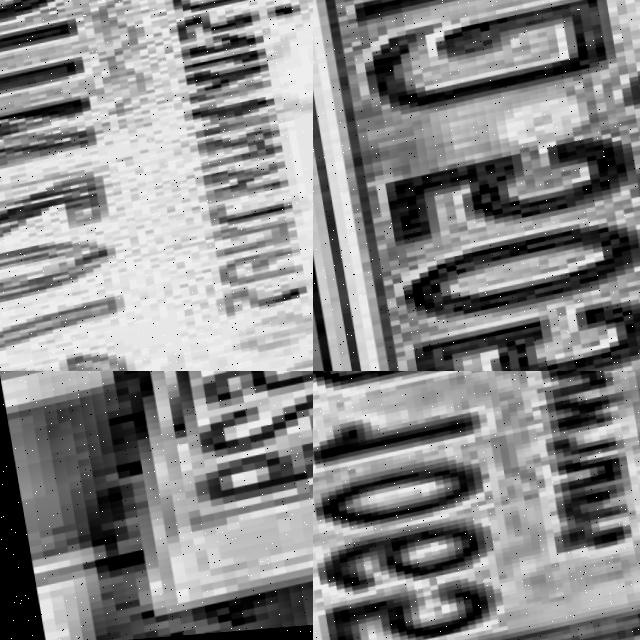license-plate: (313, 0, 640, 371), (0, 0, 313, 371), (313, 371, 640, 640), (51, 371, 313, 621)
